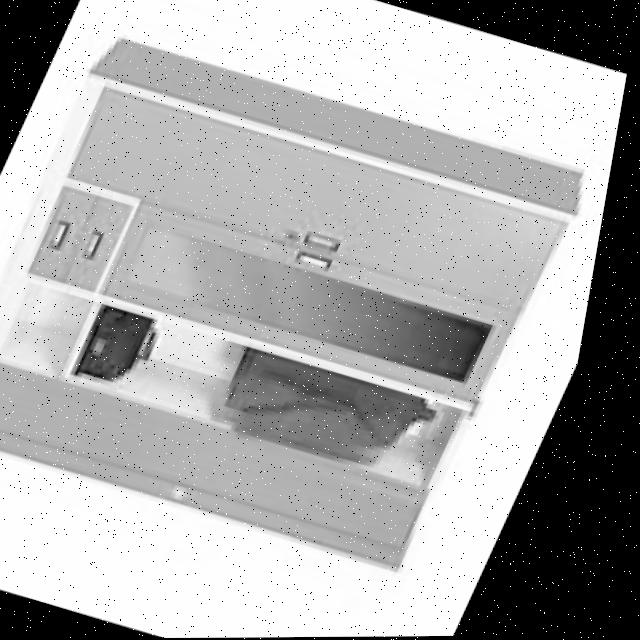dolap: (0, 26, 625, 581)
